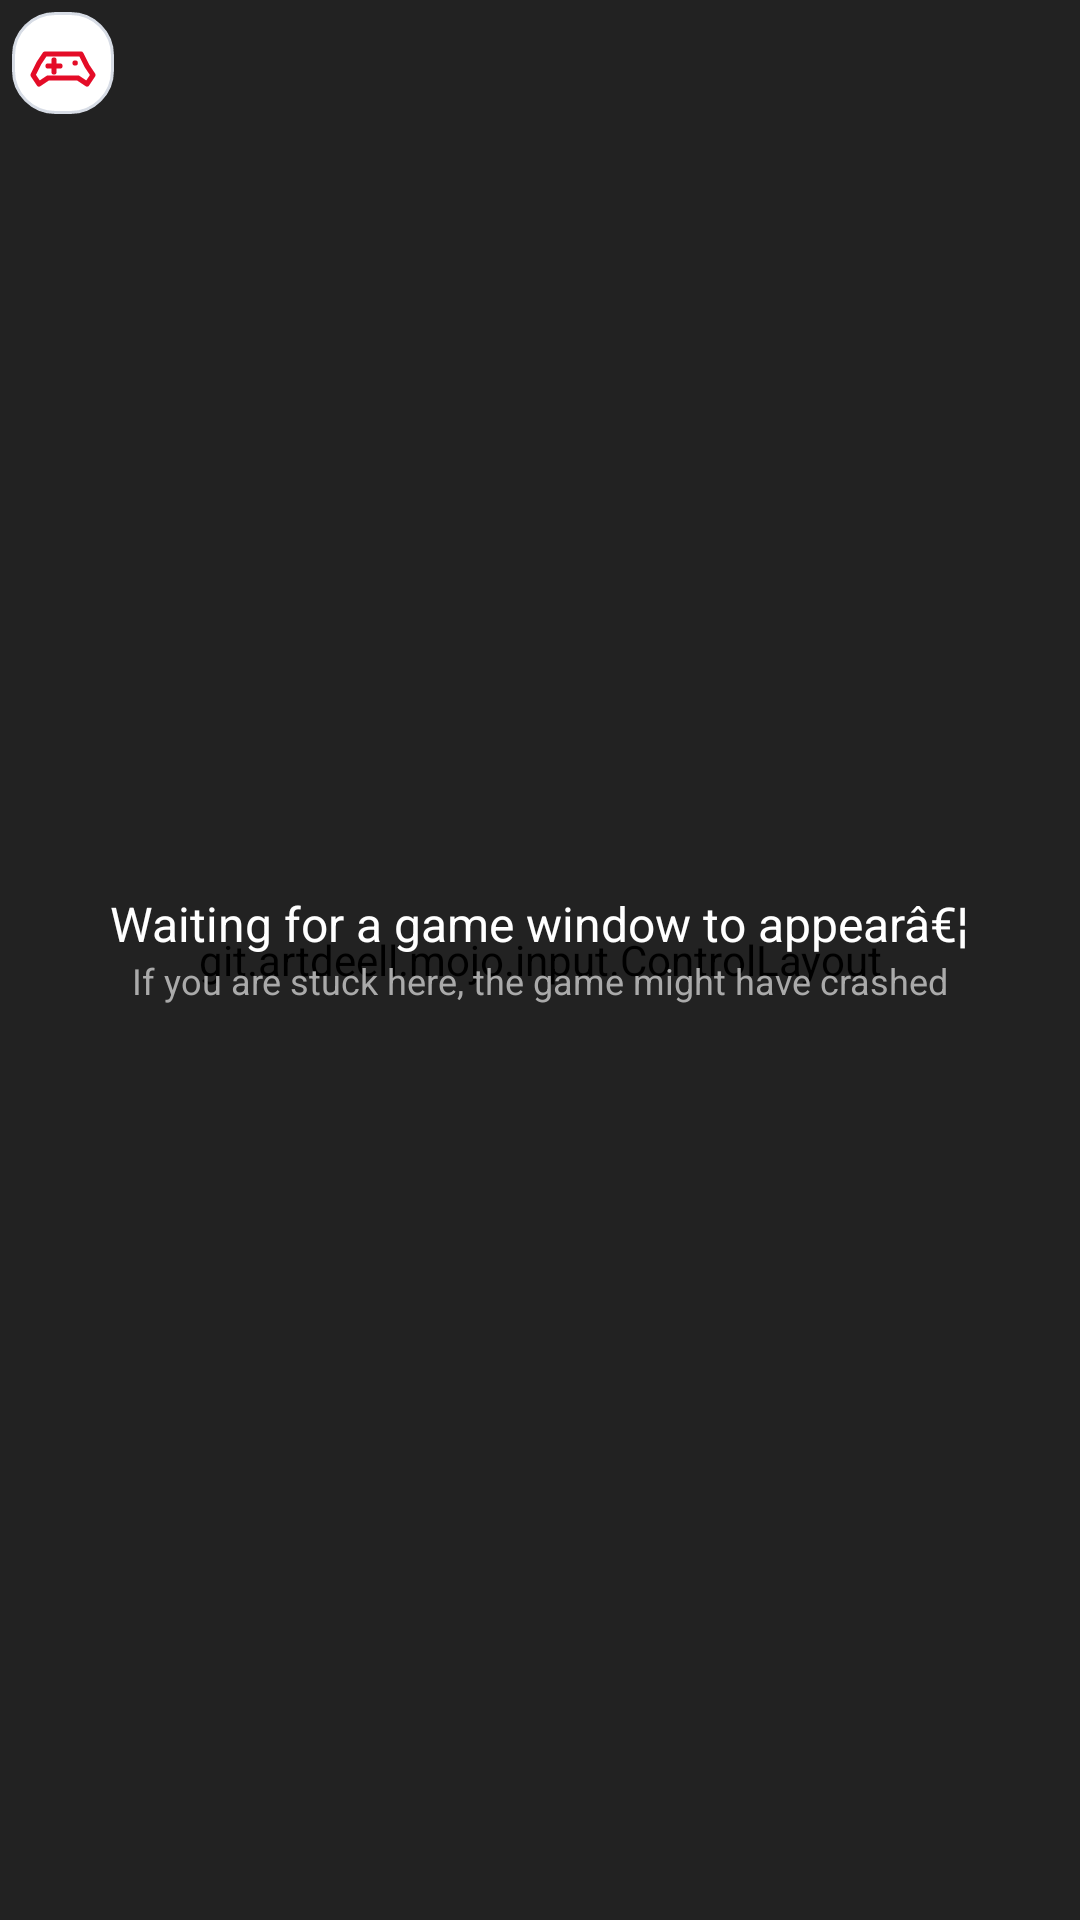

Screen size 1080*1920. Icon name, then its center in pixels as point (x, y):
Open game tools: point (63, 63)
